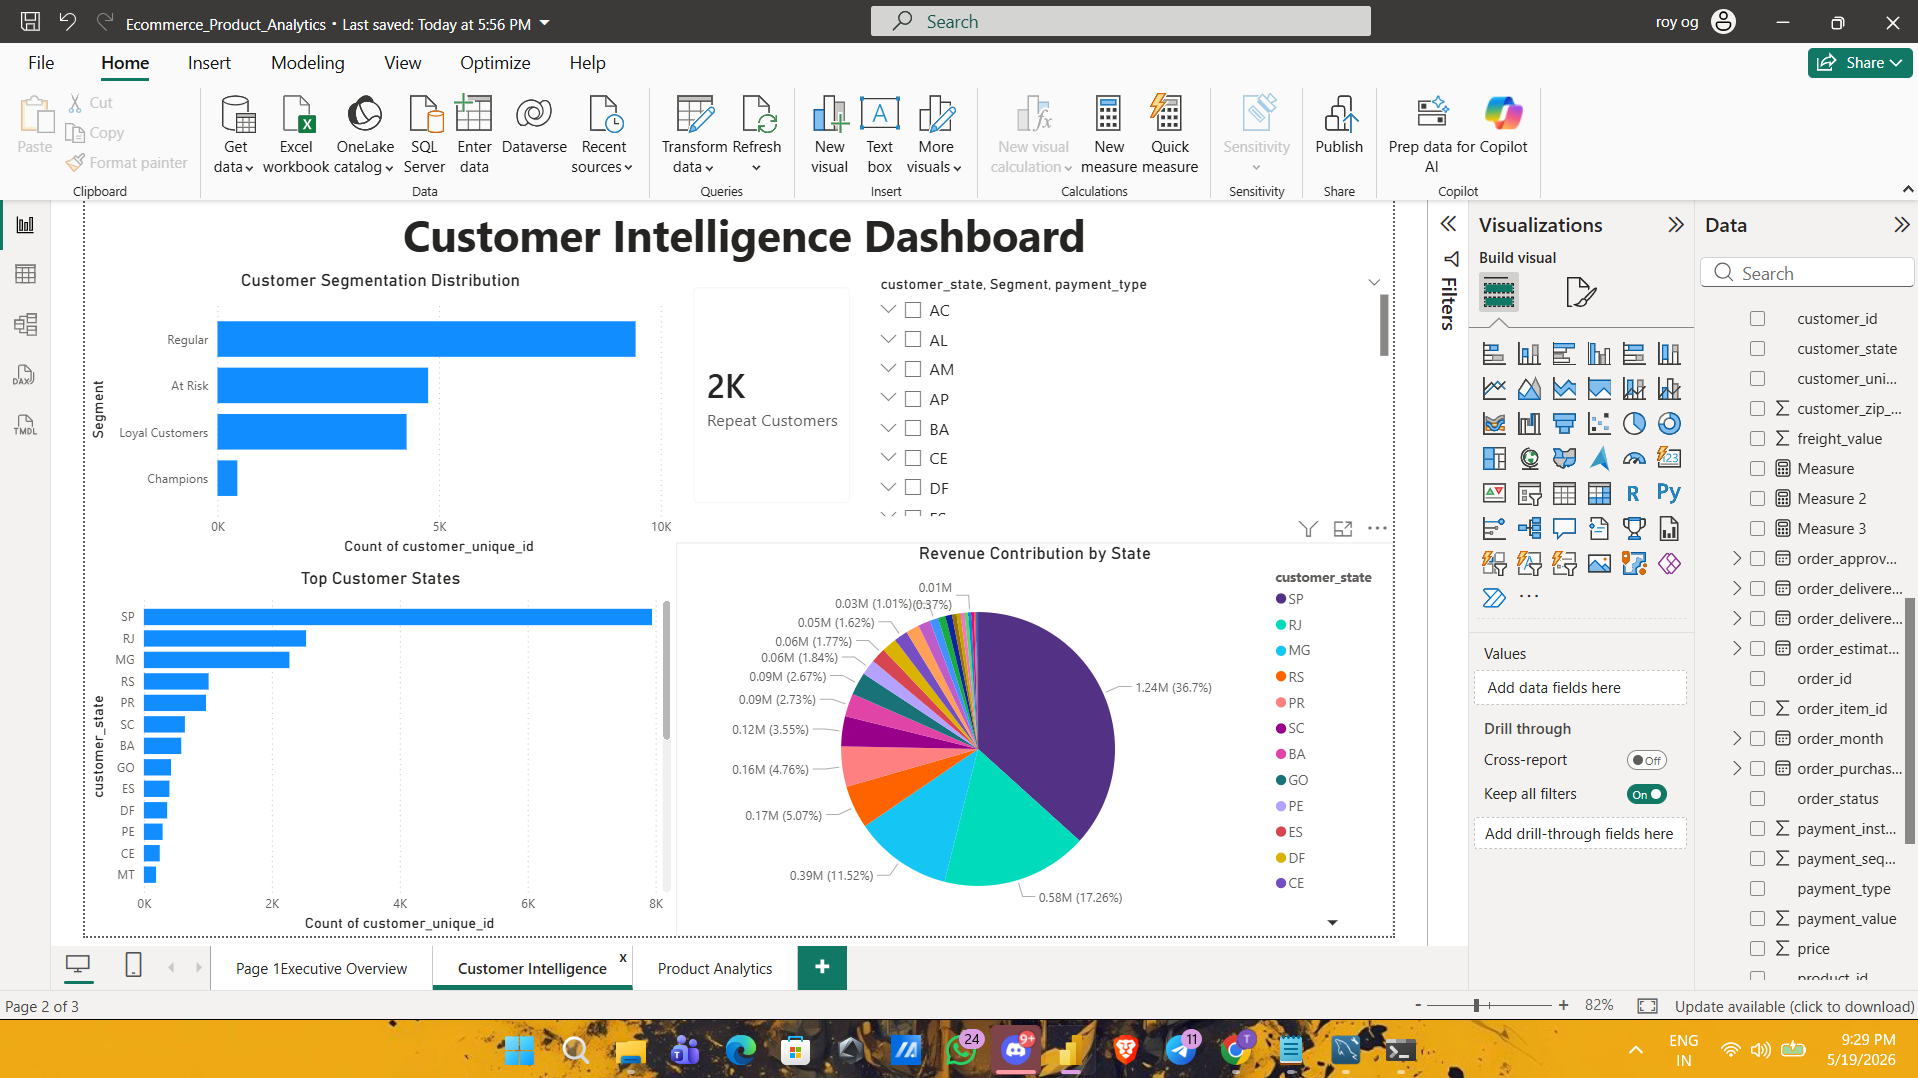

Layout of this report page (visuals, bound fields, positions):
{"tool":"powerbi","page":{"name":"Customer Intelligence","canvas":[1280,720],"ordinal":1},"visuals":[{"type":"textbox","box":[9.8,0,1270.5,78.3],"z":0},{"type":"cardVisual","fields":{"Data":["full_data.Repeat Customers"]},"box":[578.4,68.5,187.1,245.8],"z":1},{"type":"clusteredBarChart","title":"Customer Segmentation Distribution","fields":{"Category":["rfm_segments.Segment"],"Y":["CountNonNull(full_data.customer_unique_id)"]},"box":[0,68.5,578.4,283.7],"z":2},{"type":"clusteredBarChart","title":"Top Customer States","fields":{"Y":["CountNonNull(full_data.customer_unique_id)"],"Category":["full_data.customer_state"]},"box":[0,359.5,578.4,360.7],"z":3},{"type":"pieChart","title":"Revenue Contribution by State","fields":{"Category":["full_data.customer_state"],"Y":["Sum(full_data.payment_value)"]},"box":[578.4,335.1,701.9,385.2],"z":4},{"type":"slicer","fields":{"Values":["full_data.customer_state","rfm_segments.Segment","full_data.payment_type"]},"box":[765.5,68.5,514.8,245.8],"z":5}]}

Visuals, with their boxes on the page's 1280x720 design canvas (x1, y1, x2, y2). These are canvas units, not pixel positions in the 1918x1078 screenshot, which may show the page scaled, cropped or inside an application window:
textbox: [10, 0, 1280, 78]
cardVisual - full_data.Repeat Customers: [578, 68, 766, 314]
"Customer Segmentation Distribution" clusteredBarChart: [0, 68, 578, 352]
"Top Customer States" clusteredBarChart: [0, 360, 578, 720]
"Revenue Contribution by State" pieChart: [578, 335, 1280, 720]
slicer - full_data.customer_state x rfm_segments.Segment: [766, 68, 1280, 314]
